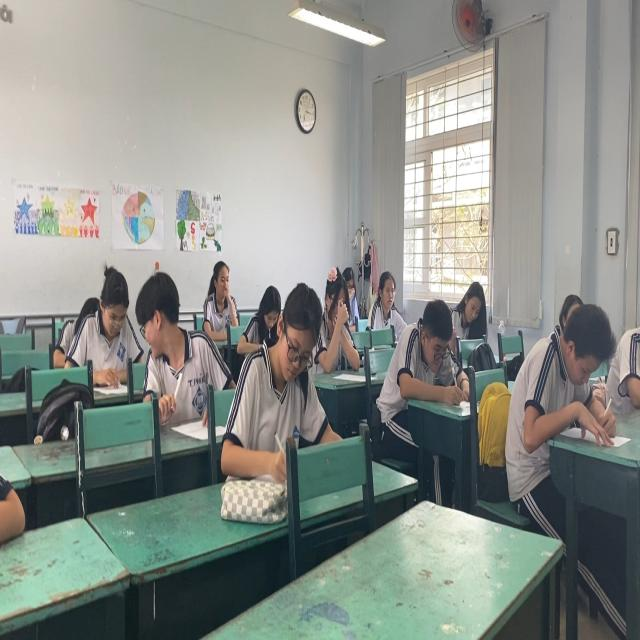cheating: (131, 272, 205, 413)
not_cheating: (240, 276, 327, 456), (516, 294, 615, 434), (74, 256, 134, 372), (403, 297, 457, 397), (321, 269, 358, 379), (195, 252, 246, 331), (452, 270, 492, 342), (366, 272, 411, 334)
